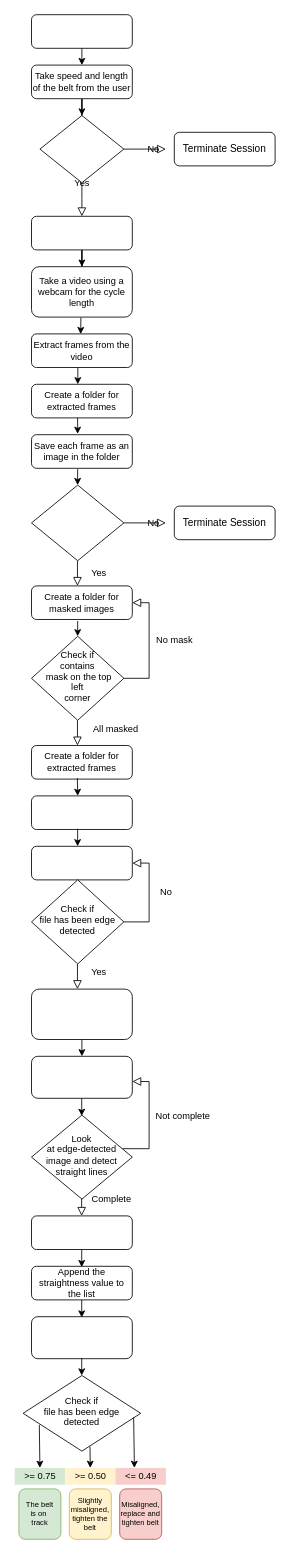
This 290x1554 diagram has some shape labels left out. Each missing label, with the centre of its shape:
"Apply Hough transformation algorithm" belongs at point 81,1076.
"Calculate cycle length" belongs at point 81,232.
"Calculate the mean straightness value" belongs at point 81,1337.
"Calculate the straightness of each detected line" belongs at point 81,1232.
"Create a folder for edge-detected images" belongs at point 81,812.
"Create a list for straightness values of each edge-detected image" belongs at point 81,1014.
"Detect edges from files in the Frames" belongs at point 81,862.
"Frames folder is not empty" belongs at point 77,522.
"Operable values?" belongs at point 81,149.
"Start" belongs at point 81,31.
